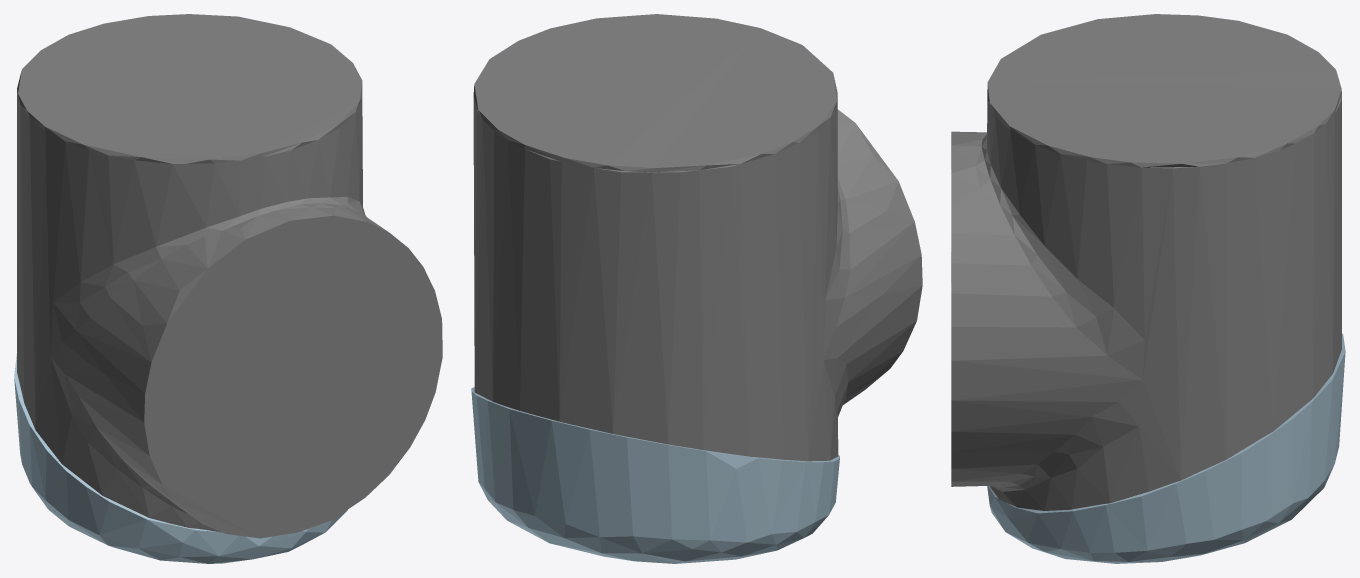
File: wrist1.dae
3 views of the same model, side by side, from view 1: azimuth 30°, elevation 25°; view 2: azimuth 150°, elevation 25°; view 3: azimuth 270°, elevation 25° (orthographic). The views are drawn at different scales.
Visible parts, largest first — view 1: node-shape0-name, node-shape1-name; view 2: node-shape0-name, node-shape1-name; view 3: node-shape0-name, node-shape1-name.
Part boxes in pixels (x1,y1,x2,y2): node-shape0-name: [17, 14, 442, 538]; node-shape1-name: [14, 354, 347, 563]; node-shape0-name: [473, 14, 922, 461]; node-shape1-name: [471, 387, 839, 563]; node-shape0-name: [951, 14, 1341, 510]; node-shape1-name: [987, 333, 1345, 563].
Bounding box in the file's own units: 0.091 × 0.1 × 0.1187.
